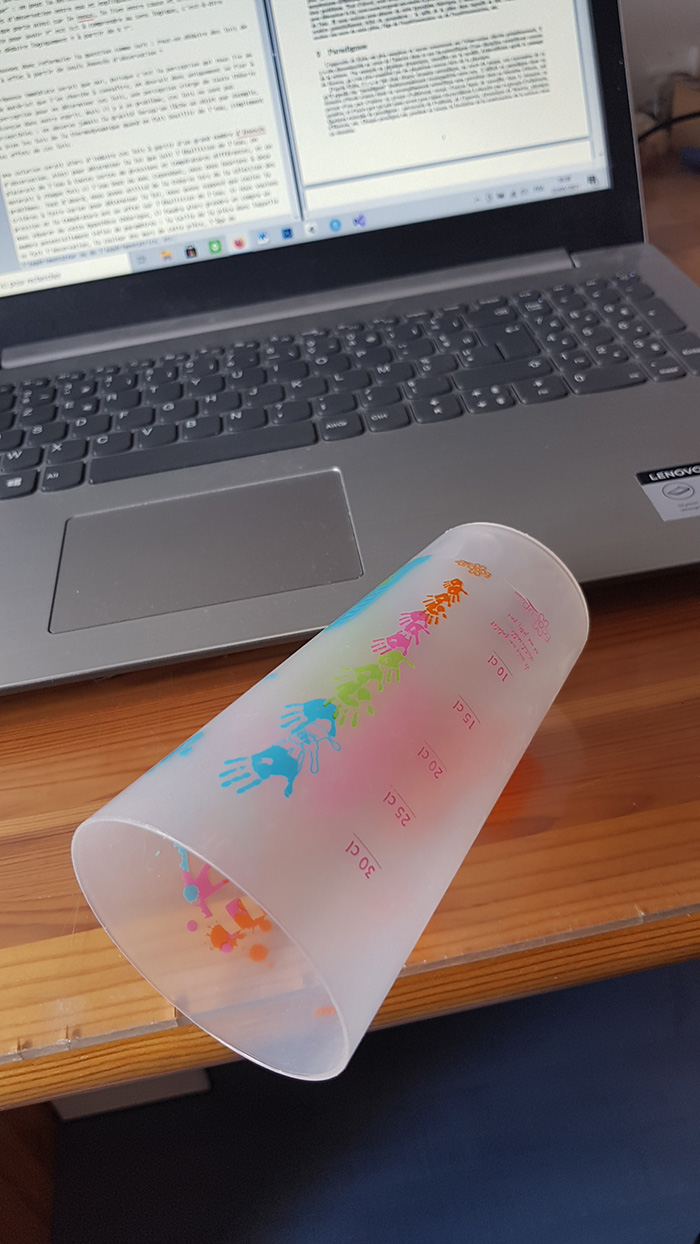ecocup: (71, 520, 588, 1083)
